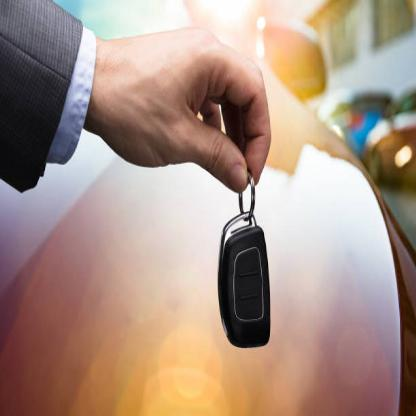keys: (215, 207, 273, 350)
